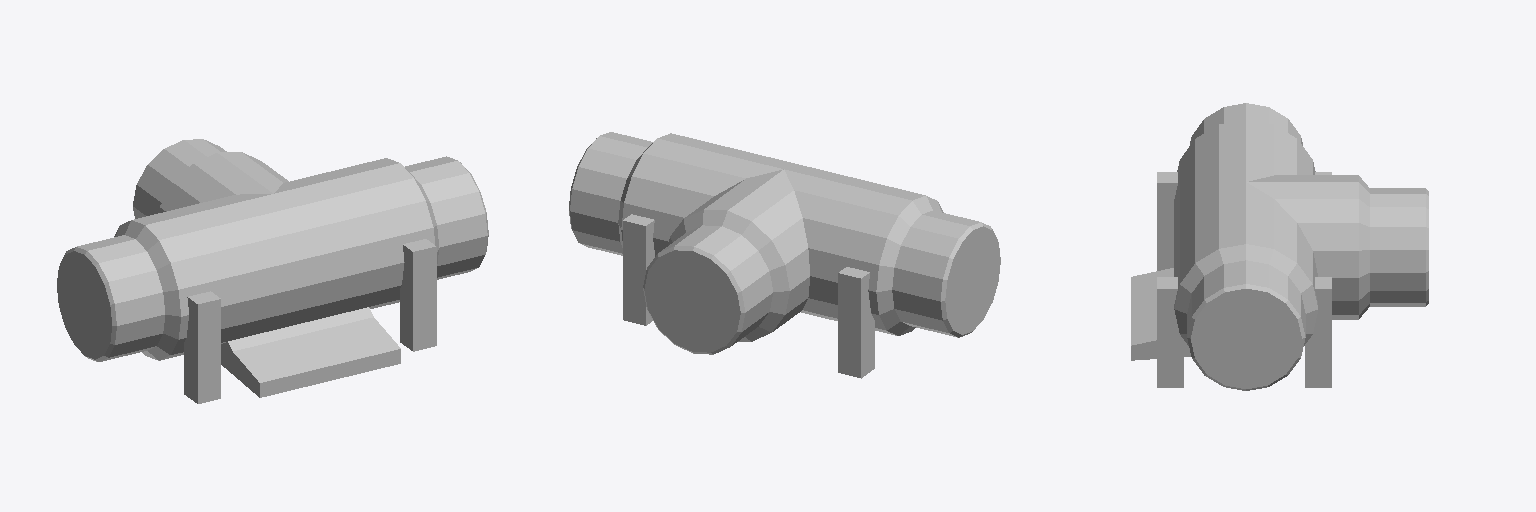
File: log.obj
3 renders of one model, left to right at view 1: azimuth 30°, elevation 25°; view 2: azimuth 150°, elevation 25°; view 3: azimuth 270°, elevation 25°, orthographic.
Visible parts, largest first — view 1: Cylinder.072; view 2: Cylinder.072; view 3: Cylinder.072.
Boxes of the visible parts, box(x1,y1,x2,y2) form: Cylinder.072: box(57, 139, 488, 403); Cylinder.072: box(569, 132, 1000, 378); Cylinder.072: box(1131, 103, 1428, 390).
Size of the model in its own units: 7.89 by 2.97 by 5.42.